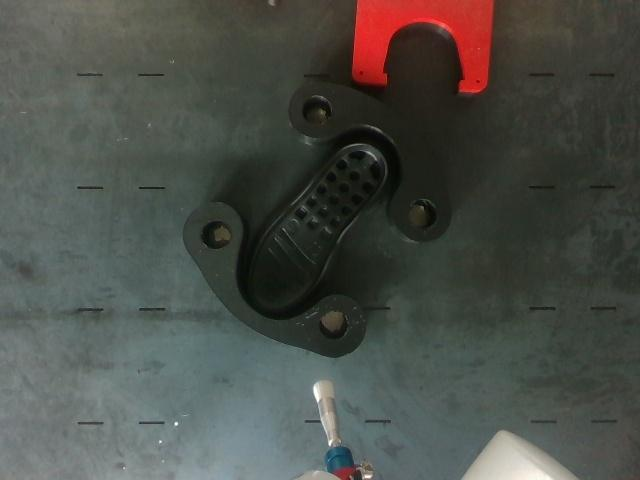shoes: (251, 144, 387, 307)
